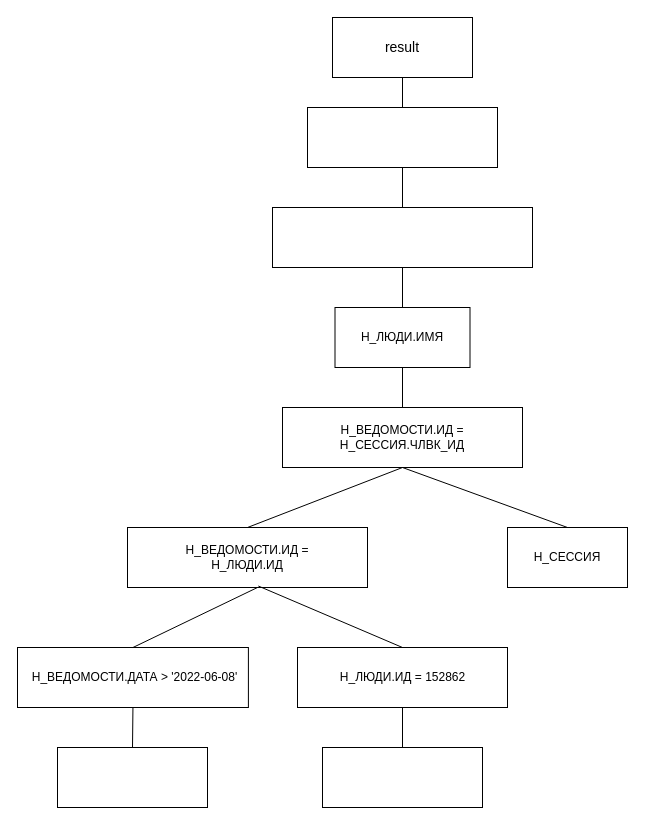
The diagram is 645 pixels wide and 825 high, and some of its shapes have lost their labels. The shapes that lost their labels are listed below. From the top down, each one's centre as x and y in pixels, then its label:
pixel 402 137: Н_СЕССИЯ.ЧЛВК_ИД
pixel 402 237: Н_ВЕДОМОСТИ.ДАТА
pixel 132 777: Н_ВЕДОМОСТИ
pixel 402 777: Н_ЛЮДИ
